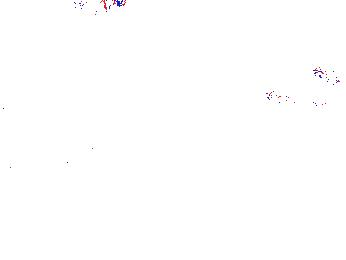X-ray fish: (85, 1, 124, 13)
glassfish: (1, 99, 76, 147)
